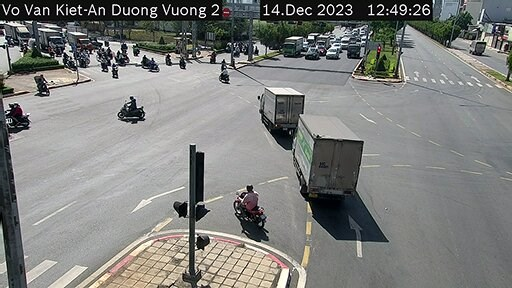motorbike: (228, 186, 268, 224), (122, 96, 145, 123), (31, 77, 53, 99)
truck: (281, 99, 362, 202), (249, 82, 303, 132)
